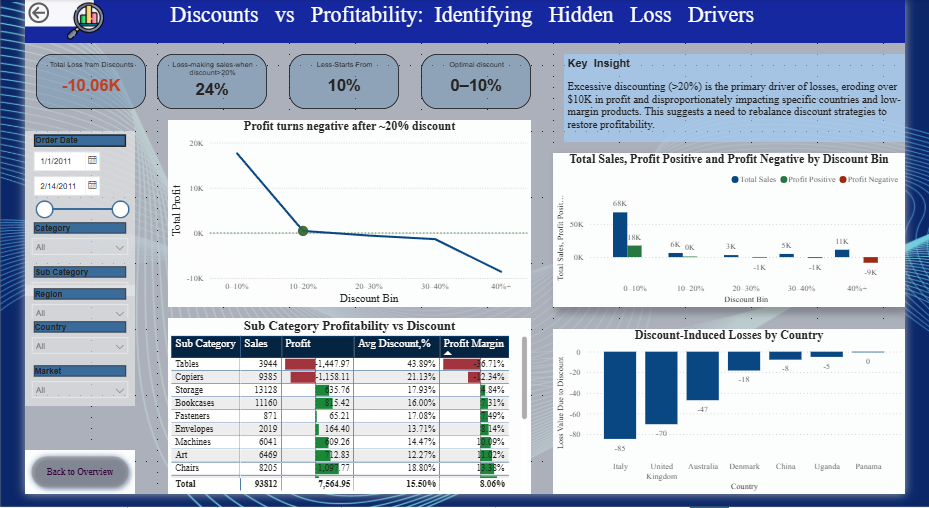

The dashboard page shown, as its layout file describes it:
{"tool":"powerbi","page":{"name":"Discount/profit","canvas":[1280,720],"ordinal":1},"visuals":[{"type":"image","box":[0,0,171.5,105.7],"z":0},{"type":"textbox","box":[0,0,1280,64],"z":1000},{"type":"card","title":"Loss-making sales when discount>20%","fields":{"Values":["DATASET.High Risk Shate"]},"box":[192,80,160,80],"z":2000},{"type":"slicer","fields":{"Values":["DATASET.order_date"]},"box":[0,192,160,128],"z":3000},{"type":"slicer","fields":{"Values":["DATASET.country"]},"box":[0,464,160,64],"z":4000},{"type":"slicer","fields":{"Values":["DATASET.sub_category"]},"box":[0,384,160,48],"z":5000},{"type":"card","title":"Total Loss from Discounts","fields":{"Values":["DATASET.Total Loss Due to Discount"]},"box":[16,80,160,80],"z":6000},{"type":"card","title":"Loss Starts From","fields":{"Values":["DATASET.Min Loss Discount"]},"box":[384,80,160,80],"z":7000},{"type":"card","title":"Optimal discount","fields":{"Values":["DATASET.Optimal Discount Bin"]},"box":[576,80,160,80],"z":8000},{"type":"actionButton","box":[0,0,100,40],"z":9000},{"type":"lineChart","title":"Profit turns negative after ~20% discount","fields":{"Category":["DATASET.Discount Bin"],"Y":["Sum(DATASET.profit)"]},"box":[208,176,528,272],"z":10000},{"type":"textbox","box":[784,80,496,128],"z":11000},{"type":"image","box":[16,0,144,64],"z":12000},{"type":"pivotTable","title":"Sub Category Profitability vs Discount","fields":{"Rows":["DATASET.sub_category"],"Values":["Sum(DATASET.sales)","Sum(DATASET.profit)","DATASET.Avg Discount","DATASET.Profit Margin"]},"box":[208,464,528,256],"z":13000},{"type":"clusteredColumnChart","fields":{"Category":["DATASET.Discount Bin"],"Y":["Sum(DATASET.sales)","DATASET.Profit Positive","DATASET.Profit Negative"]},"box":[768,224,512,224],"z":14000},{"type":"slicer","fields":{"Values":["DATASET.category"]},"box":[0,320,160,64],"z":15000},{"type":"slicer","fields":{"Values":["DATASET.region"]},"box":[0,416,160,48],"z":16000},{"type":"slicer","fields":{"Values":["DATASET.market"]},"box":[0,528,160,64],"z":17000},{"type":"clusteredColumnChart","title":"Discount-Induced Losses by Country","fields":{"Y":["DATASET.Loss Value Due to Discount"],"Category":["DATASET.country"]},"box":[768,480,512,240],"z":18000},{"type":"actionButton","box":[0,656,160,64],"z":19000}]}

Visuals, with their boxes in screenshot pixels (x1, y1, x2, y2), scaled from the page's 1280x720 canvas onto the 929x508 screenshot:
image: [left=0, top=0, right=124, bottom=75]
textbox: [left=0, top=0, right=928, bottom=45]
"Loss-making sales when discount>20%" card: [left=139, top=56, right=255, bottom=113]
slicer - DATASET.order_date: [left=0, top=135, right=116, bottom=226]
slicer - DATASET.country: [left=0, top=327, right=116, bottom=373]
slicer - DATASET.sub_category: [left=0, top=271, right=116, bottom=305]
"Total Loss from Discounts" card: [left=12, top=56, right=128, bottom=113]
"Loss Starts From" card: [left=279, top=56, right=395, bottom=113]
"Optimal discount" card: [left=418, top=56, right=534, bottom=113]
actionButton: [left=0, top=0, right=73, bottom=28]
"Profit turns negative after ~20% discount" lineChart: [left=151, top=124, right=534, bottom=316]
textbox: [left=569, top=56, right=928, bottom=147]
image: [left=12, top=0, right=116, bottom=45]
"Sub Category Profitability vs Discount" pivotTable: [left=151, top=327, right=534, bottom=507]
clusteredColumnChart - DATASET.Discount Bin x Sum(DATASET.sales): [left=557, top=158, right=928, bottom=316]
slicer - DATASET.category: [left=0, top=226, right=116, bottom=271]
slicer - DATASET.region: [left=0, top=294, right=116, bottom=327]
slicer - DATASET.market: [left=0, top=373, right=116, bottom=418]
"Discount-Induced Losses by Country" clusteredColumnChart: [left=557, top=339, right=928, bottom=507]
actionButton: [left=0, top=463, right=116, bottom=507]
